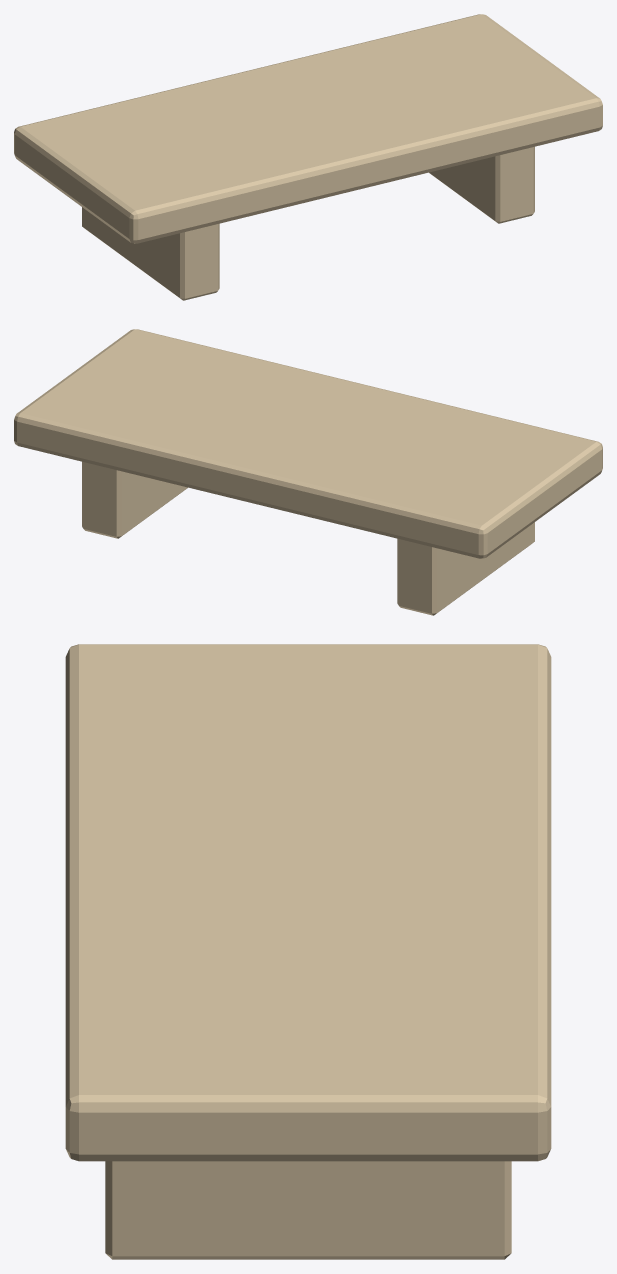
The model's file is lowTable.glb.
3 renders of one model, top to bottom at view 1: azimuth 30°, elevation 25°; view 2: azimuth 150°, elevation 25°; view 3: azimuth 270°, elevation 25°, orthographic. The views are drawn at different scales.
Visible parts, largest first — view 1: lowTable_top, lowTable_slab_leg_-1, lowTable_slab_leg_1; view 2: lowTable_top, lowTable_slab_leg_-1, lowTable_slab_leg_1; view 3: lowTable_top, lowTable_slab_leg_1.
Part boxes in pixels (bbox=[...]): lowTable_top: bbox=[14, 14, 602, 243]; lowTable_slab_leg_-1: bbox=[82, 207, 219, 300]; lowTable_slab_leg_1: bbox=[429, 146, 534, 223]; lowTable_top: bbox=[14, 329, 602, 558]; lowTable_slab_leg_-1: bbox=[397, 522, 534, 615]; lowTable_slab_leg_1: bbox=[82, 461, 187, 538]; lowTable_top: bbox=[65, 644, 551, 1161]; lowTable_slab_leg_1: bbox=[105, 1161, 511, 1259].
Bounding box in the file's own units: 1.8 × 0.4 × 0.8.
